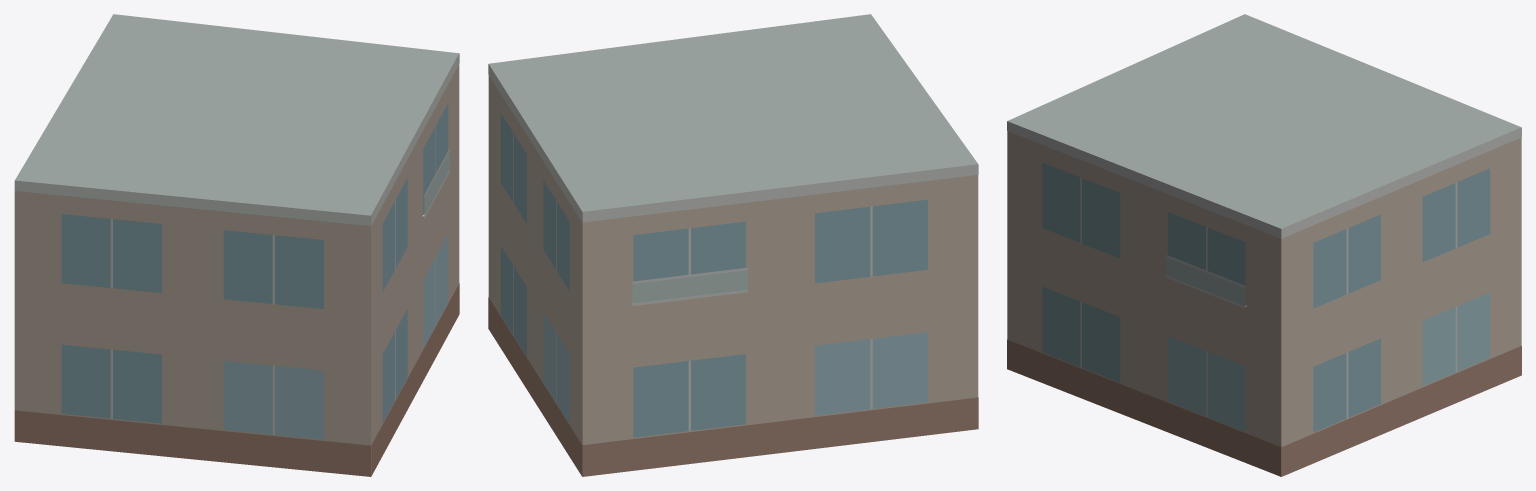
File: survey-upis-32643300.glb
3 renders of one model, left to right at view 1: azimuth 30°, elevation 25°; view 2: azimuth 150°, elevation 25°; view 3: azimuth 270°, elevation 25°, orthographic. The views are drawn at different scales.
Visible parts, largest first — view 1: survey-upis-32643300.tmp; view 2: survey-upis-32643300.tmp; view 3: survey-upis-32643300.tmp.
Boxes of the visible parts, box(x1,y1,x2,y2) form: survey-upis-32643300.tmp: box(14, 14, 459, 476); survey-upis-32643300.tmp: box(488, 14, 978, 476); survey-upis-32643300.tmp: box(1007, 14, 1521, 476).
Bounding box in the file's own units: 11.35 × 6.1 × 11.48.
